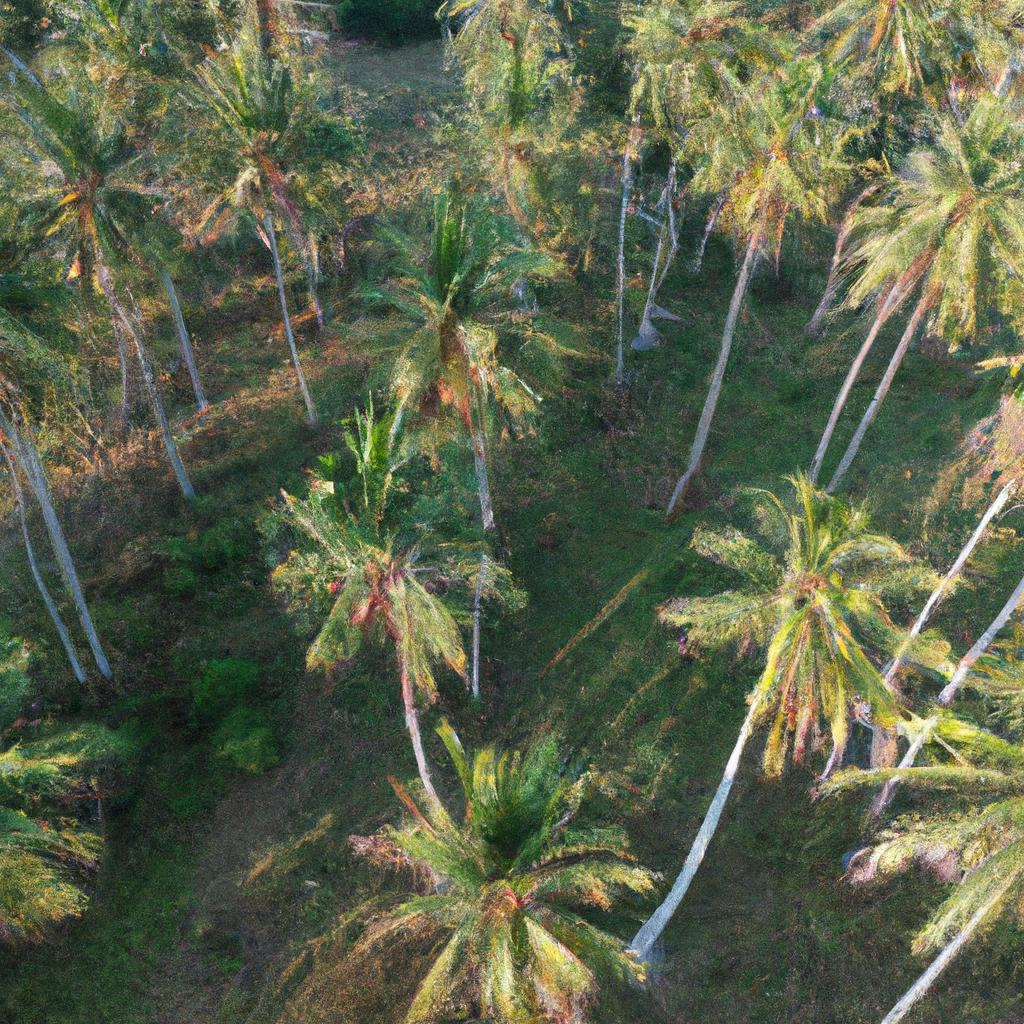coconut_tree: (310, 710, 678, 1023), (659, 466, 958, 777), (223, 440, 558, 699), (338, 205, 605, 421), (834, 101, 1023, 332), (172, 61, 397, 250)
